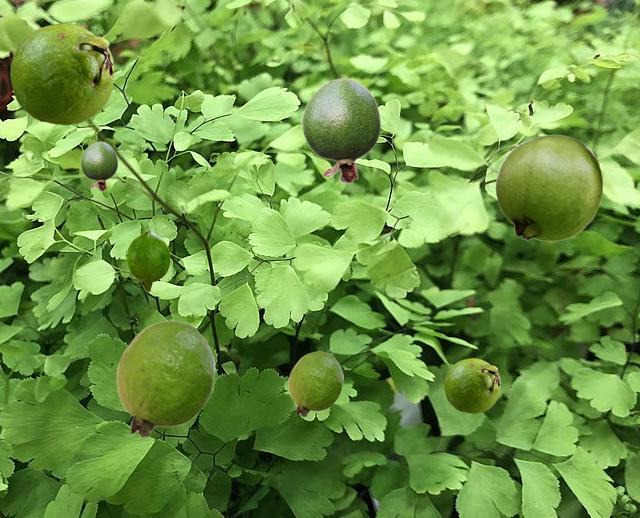guava: (116, 320, 214, 437), (495, 134, 602, 240), (10, 23, 113, 124), (301, 77, 381, 183), (288, 351, 342, 416), (444, 358, 499, 412), (126, 231, 169, 291), (80, 141, 117, 190)
